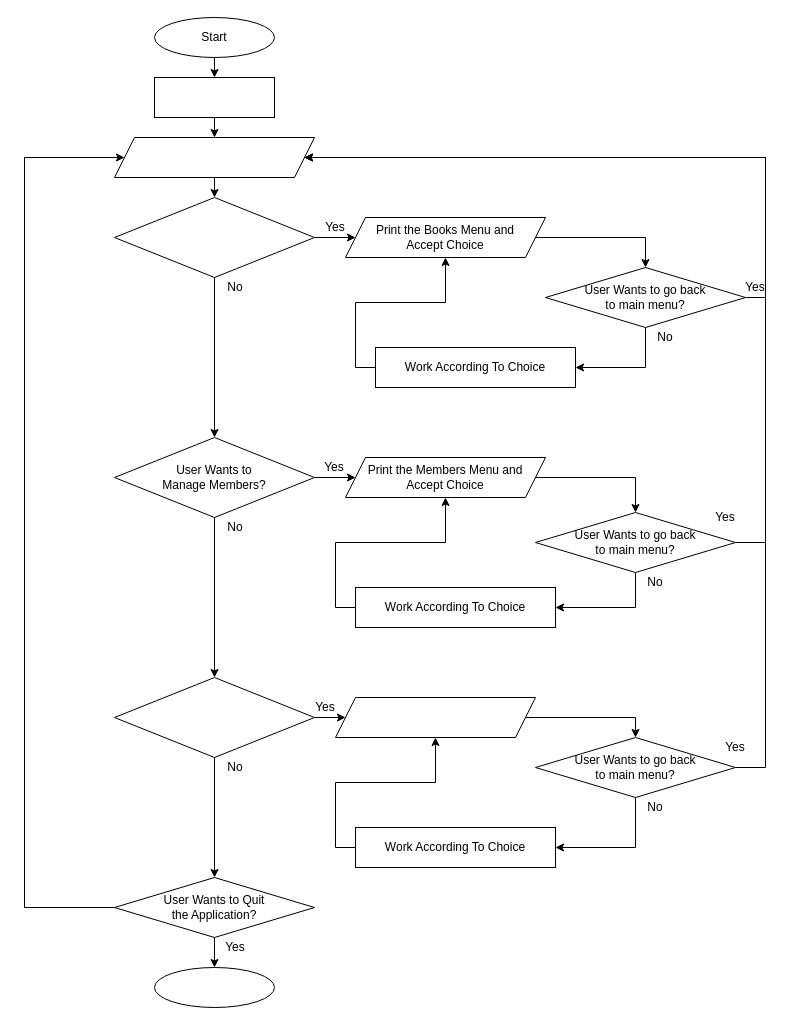
This 793x1025 diagram has some shape labels left out. Here are the shapes that lost their labels. From the top down, the box of each, then its label:
(154, 76, 274, 118): Connect To Database
(114, 136, 314, 178): Print the main Menu and Accept Users Choice
(114, 196, 314, 278): User Wants To Manage Books?
(114, 676, 314, 758): User Wants to Issue/Return Register?
(334, 696, 536, 738): Print the Issue/Return Menu and Accept Choice
(154, 966, 274, 1008): Stop
